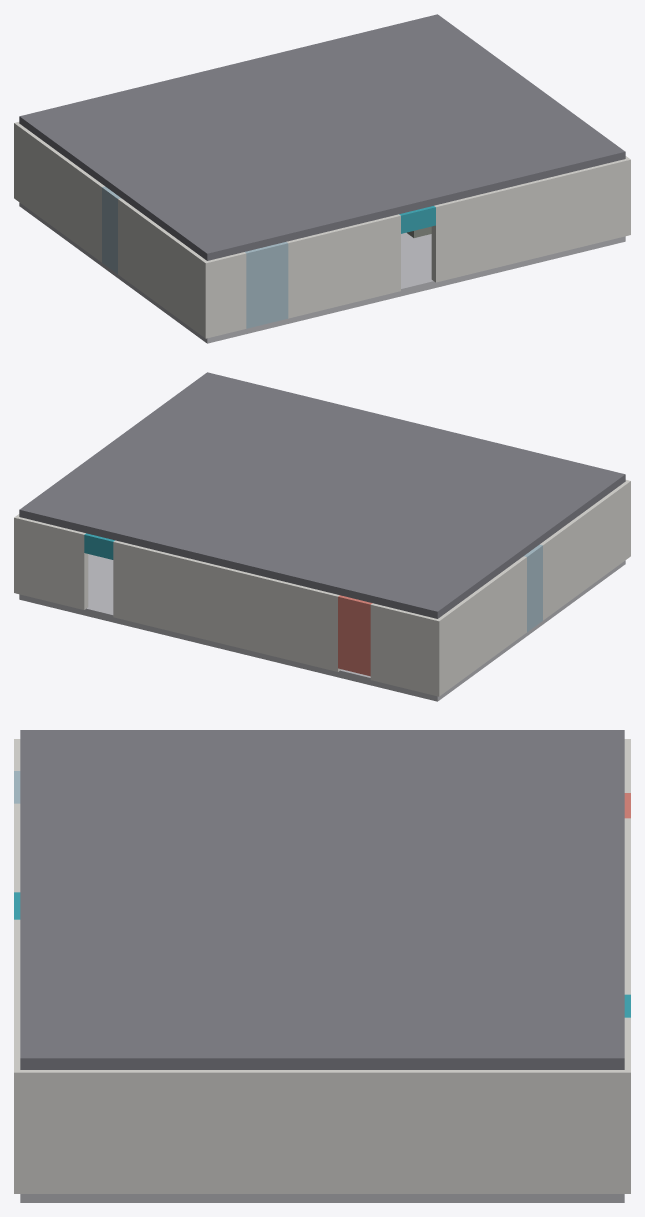
Rendered from strip_retail_a02.glb.
The picture shows the model from 3 angles, top to bottom: view 1: azimuth 30°, elevation 25°; view 2: azimuth 150°, elevation 25°; view 3: azimuth 270°, elevation 25°; orthographic projection. The views are drawn at different scales.
Visible parts, largest first — view 1: slab_1_t0_0, slab_1_t0_3, slab_1_t0_1, slab_1_t0_2, slab_1_t1_0, slab_1_t2_0, slab_1_t2_1, slab_1_t2_3, slab_1_t1_1, slab_1_t1_3, slab_1_t2_2, slab_1_t1_2 (+26 smaller); view 2: slab_1_t2_0, slab_1_t2_3, slab_1_t2_1, slab_1_t2_2, slab_1_t1_0, slab_1_t0_0, slab_1_t0_1, slab_1_t0_3, slab_1_t1_1, slab_1_t1_3, slab_1_t0_2, slab_1_t1_2 (+26 smaller); view 3: slab_1_t0_3, slab_1_t2_3, slab_1_t1_3, slab_1_t0_2, slab_1_t2_2, slab_1_t1_2, slab_1_t0_0, slab_1_t0_1, slab_1_t2_0, slab_1_t2_1, slab_1_t1_0, slab_1_t1_1 (+12 smaller).
Boxes of the visible parts, <box> form: slab_1_t0_0: <box>144,182,311,260</box>; slab_1_t0_3: <box>458,106,625,184</box>; slab_1_t0_1: <box>249,157,416,235</box>; slab_1_t0_2: <box>354,131,520,209</box>; slab_1_t1_0: <box>82,136,248,214</box>; slab_1_t2_0: <box>19,91,185,168</box>; slab_1_t2_1: <box>124,65,290,136</box>; slab_1_t2_3: <box>333,14,499,85</box>; slab_1_t1_1: <box>187,111,353,182</box>; slab_1_t1_3: <box>396,60,562,131</box>; slab_1_t2_2: <box>229,40,395,110</box>; slab_1_t1_2: <box>291,85,457,156</box>; slab_1_t2_0: <box>333,540,500,618</box>; slab_1_t2_3: <box>19,464,186,542</box>; slab_1_t2_1: <box>228,515,395,593</box>; slab_1_t2_2: <box>124,489,290,567</box>; slab_1_t1_0: <box>396,494,562,572</box>; slab_1_t0_0: <box>459,449,625,526</box>; slab_1_t0_1: <box>354,423,520,494</box>; slab_1_t0_3: <box>145,372,311,443</box>; slab_1_t1_1: <box>291,469,457,540</box>; slab_1_t1_3: <box>82,418,248,489</box>; slab_1_t0_2: <box>249,398,415,468</box>; slab_1_t1_2: <box>187,443,353,514</box>; slab_1_t0_3: <box>20,976,221,1069</box>; slab_1_t2_3: <box>423,976,624,1069</box>; slab_1_t1_3: <box>222,976,422,1069</box>; slab_1_t0_2: <box>20,894,221,976</box>; slab_1_t2_2: <box>423,894,624,976</box>; slab_1_t1_2: <box>222,894,422,976</box>; slab_1_t0_0: <box>20,730,221,811</box>; slab_1_t0_1: <box>20,812,221,893</box>; slab_1_t2_0: <box>423,730,624,811</box>; slab_1_t2_1: <box>423,812,624,893</box>; slab_1_t1_0: <box>222,730,422,811</box>; slab_1_t1_1: <box>222,812,422,893</box>.
Size of what is drawn, in the model's own units: 18.3 by 3.7 by 14.3.
